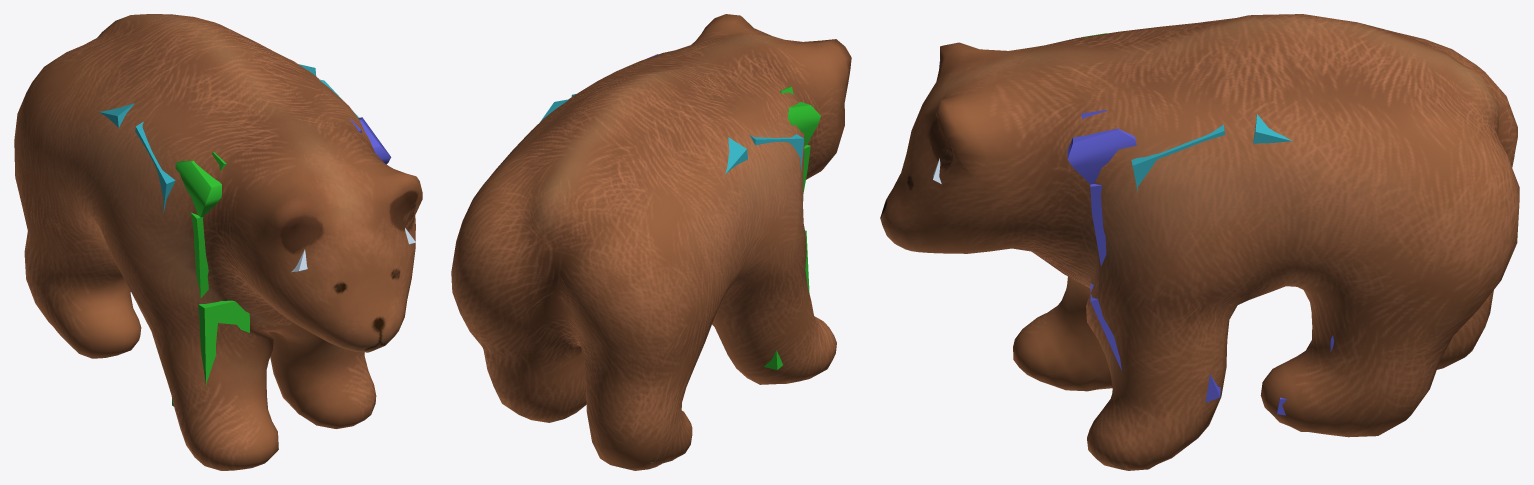
Rendered from bear-eating.glb.
3 renders of one model, left to right at view 1: azimuth 30°, elevation 25°; view 2: azimuth 150°, elevation 25°; view 3: azimuth 270°, elevation 25°, orthographic. The views are drawn at different scales.
Visible parts, largest first — view 1: lp_1502, Bip001 R Hand, Bip001 R UpperArm, Bip001 R Forearm, Bip001 Spine1, Bip001 Spine, Bip001 L UpperArm; view 2: lp_1502, Bip001 R UpperArm, Bip001 Spine, Bip001 Spine1; view 3: lp_1502, Bip001 L UpperArm, Bip001 Spine1, Bip001 L Forearm, Bip001 L Hand.
Part boxes in pixels (x1,y1,x2,y2): lp_1502: (14, 14, 422, 470); Bip001 R Hand: (172, 300, 249, 406); Bip001 R UpperArm: (175, 160, 221, 217); Bip001 R Forearm: (190, 212, 208, 297); Bip001 Spine1: (135, 79, 358, 213); Bip001 Spine: (99, 64, 316, 127); Bip001 L UpperArm: (358, 117, 391, 164); lp_1502: (451, 14, 851, 470); Bip001 R UpperArm: (787, 102, 820, 145); Bip001 Spine: (540, 99, 747, 174); Bip001 Spine1: (571, 94, 803, 171); lp_1502: (880, 14, 1519, 470); Bip001 L UpperArm: (1067, 128, 1136, 184); Bip001 Spine1: (1131, 124, 1225, 191); Bip001 L Forearm: (1090, 184, 1106, 266); Bip001 L Hand: (1090, 283, 1220, 402).
Bounding box in the file's own units: 0.434 × 0.6032 × 0.8619.
25 materials, 1 textured.
